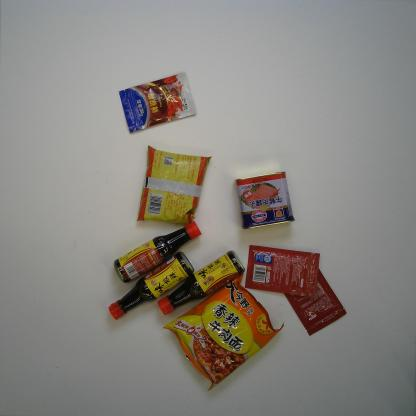Canned Food: (234, 170, 298, 231)
Instant Noodles: (161, 272, 286, 393)
Seasoner: (107, 250, 196, 322), (136, 143, 212, 227), (156, 248, 245, 316), (112, 221, 202, 283), (117, 70, 198, 134), (283, 267, 348, 338), (244, 244, 320, 299)
